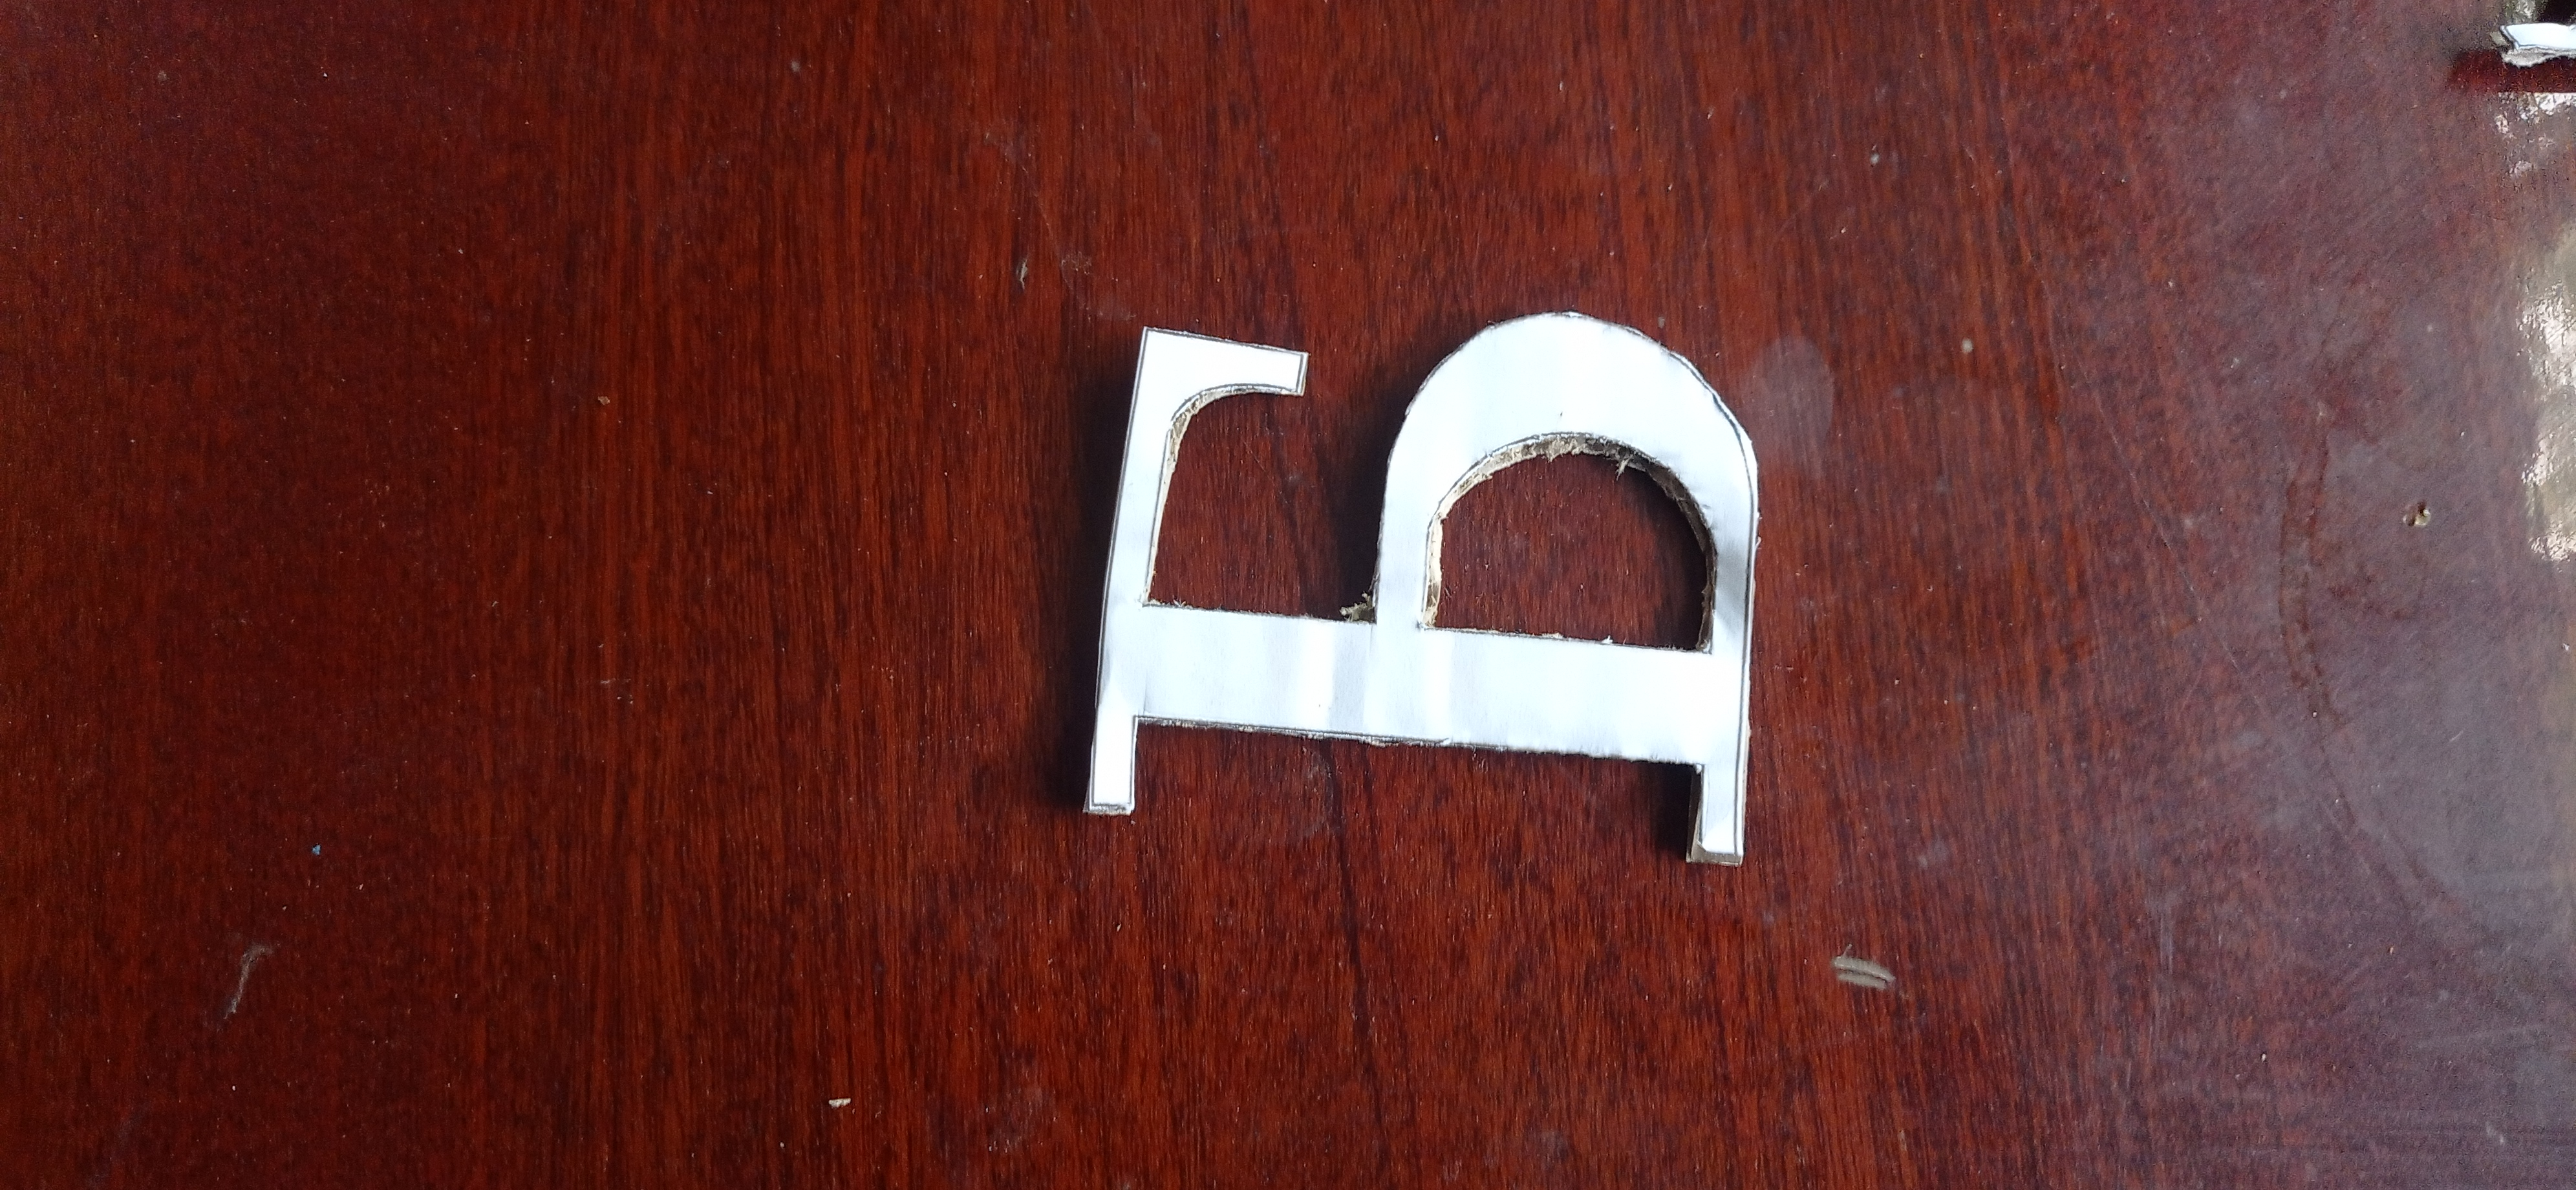b: (1079, 312, 1763, 868)
